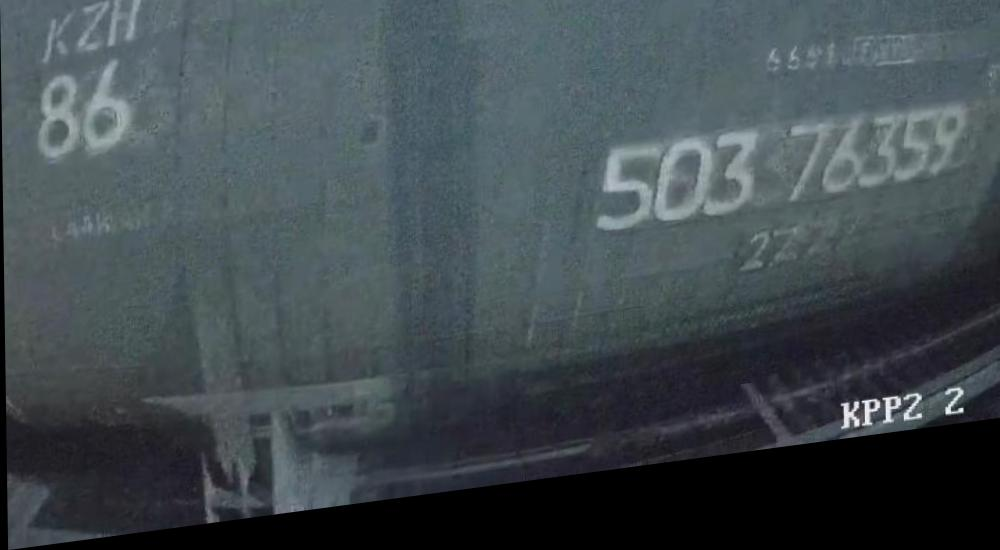Wagon-number: (587, 118, 973, 253)
